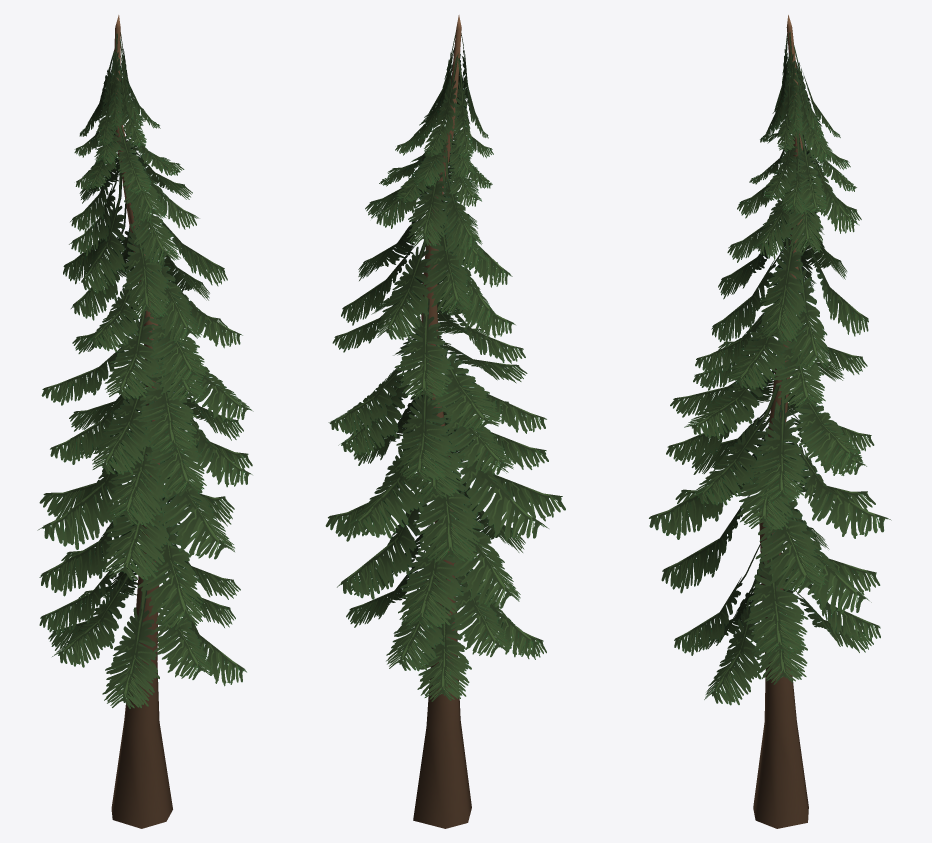
Rendered from Pine_Tree_3C.fbx.
3 renders of one model, left to right at view 1: azimuth 30°, elevation 25°; view 2: azimuth 150°, elevation 25°; view 3: azimuth 270°, elevation 25°, orthographic. The views are drawn at different scales.
Parts seen in each view (by area): view 1: Pine_Tree_3C; view 2: Pine_Tree_3C; view 3: Pine_Tree_3C.
Part boxes in pixels (<box>): Pine_Tree_3C: <box>37,15,253,828</box>; Pine_Tree_3C: <box>325,15,565,828</box>; Pine_Tree_3C: <box>649,15,891,828</box>.
Size of the model in its own units: 492 by 1530 by 520.
